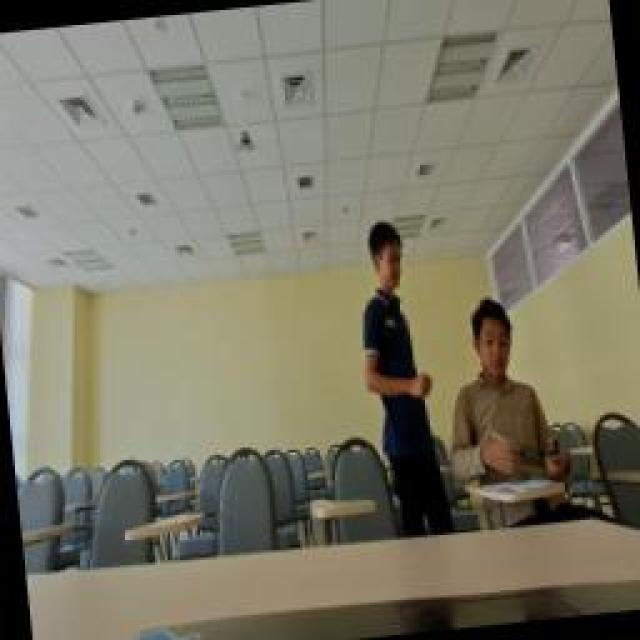study: (432, 282, 570, 492)
